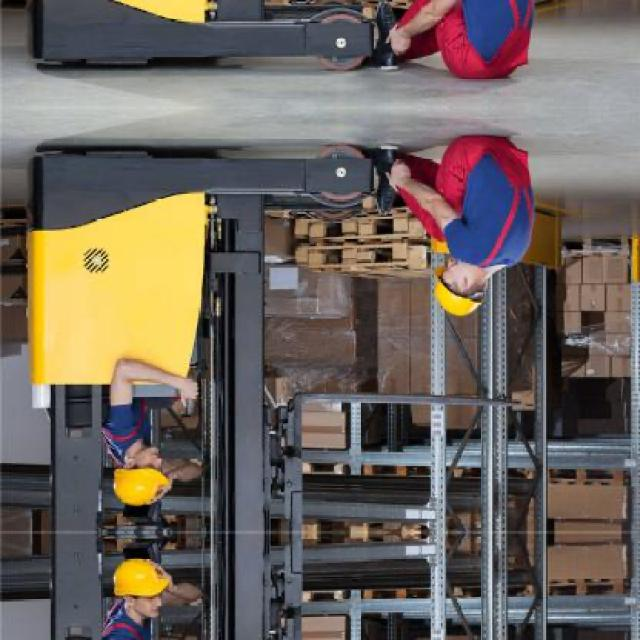con casco: (397, 232, 513, 342), (62, 420, 195, 501)
